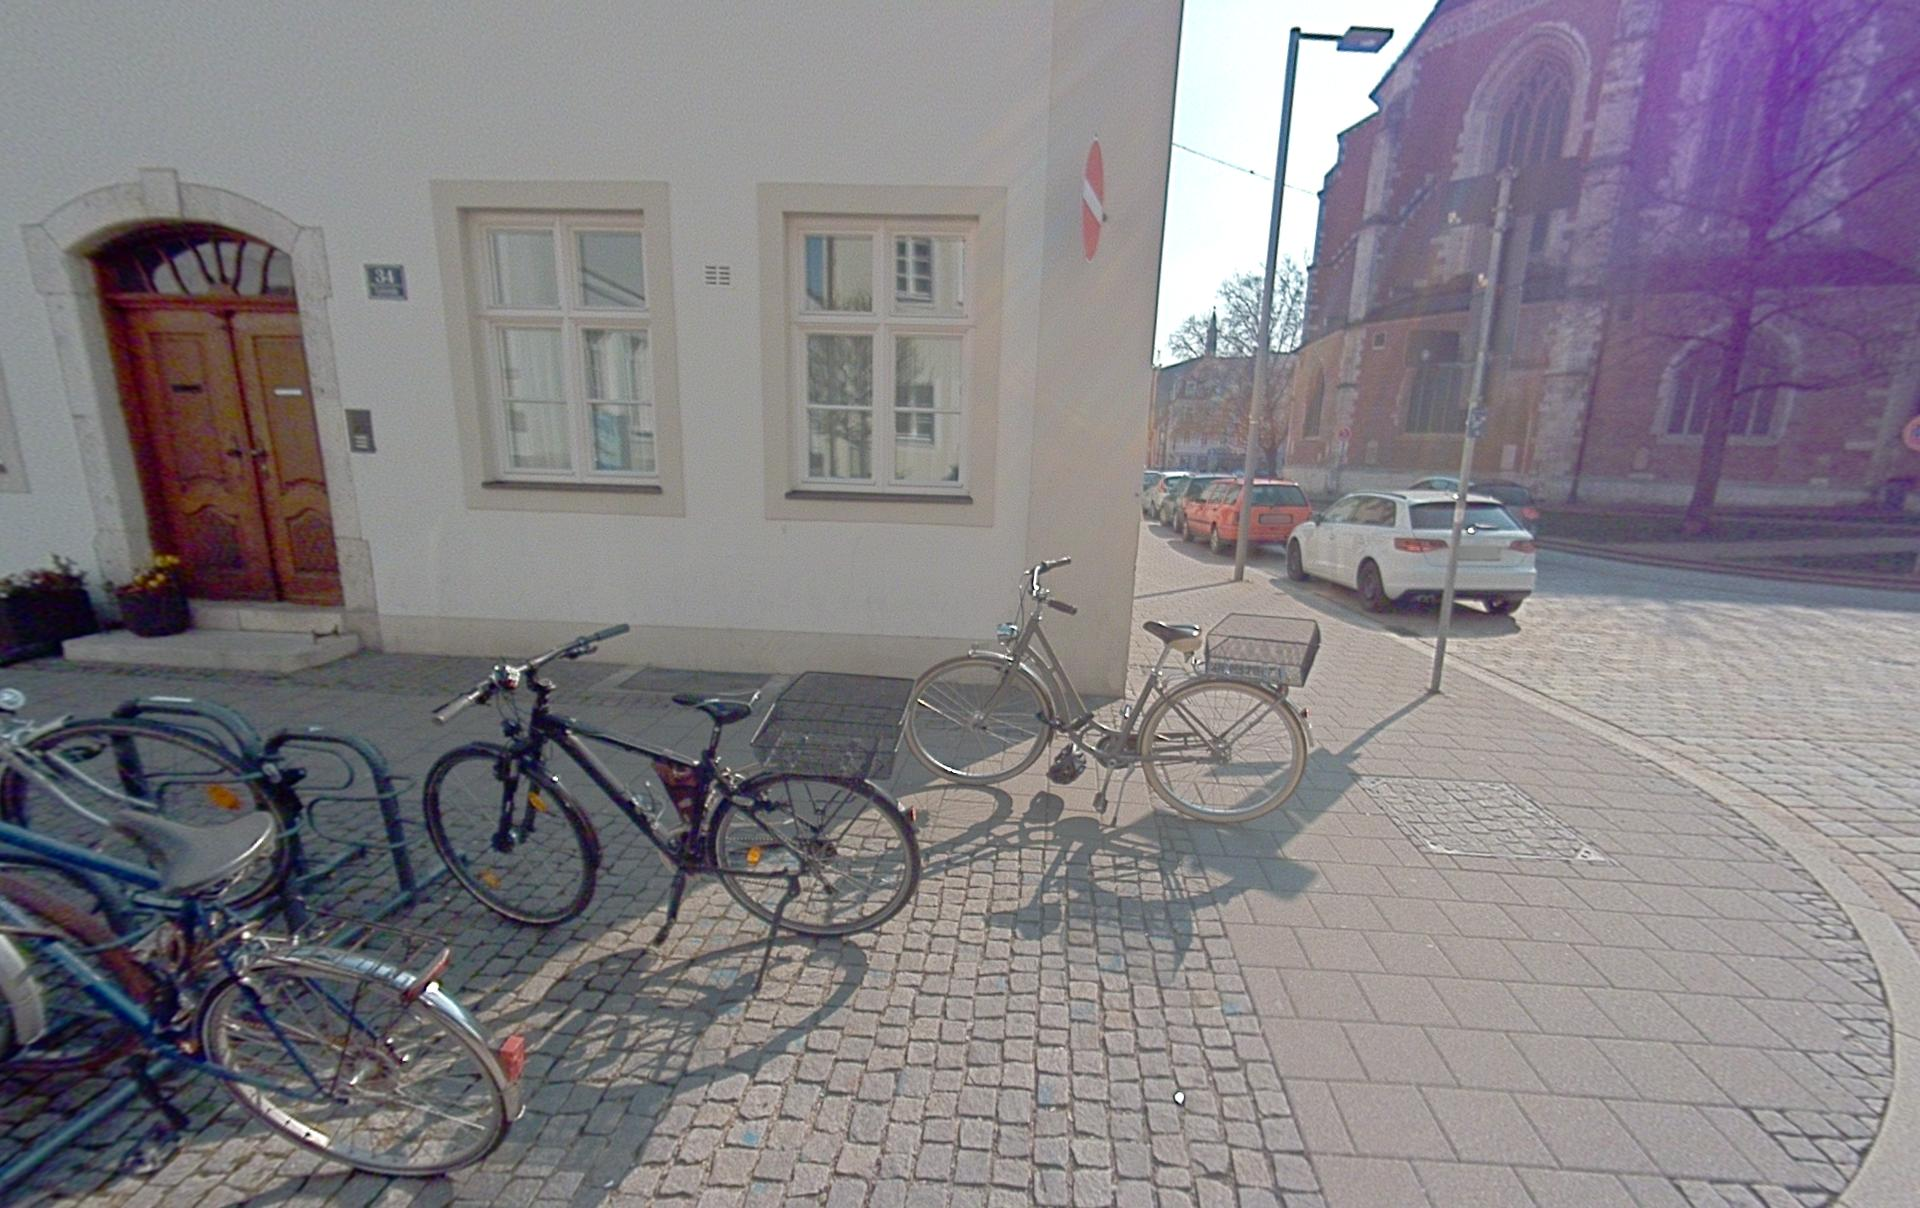car: (1286, 488, 1537, 615), (1184, 477, 1312, 554), (1408, 475, 1542, 537), (1176, 473, 1237, 537)
